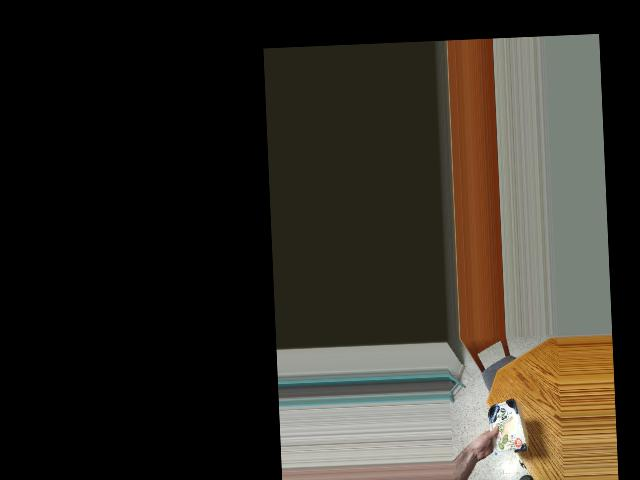cheese: (485, 397, 521, 459)
